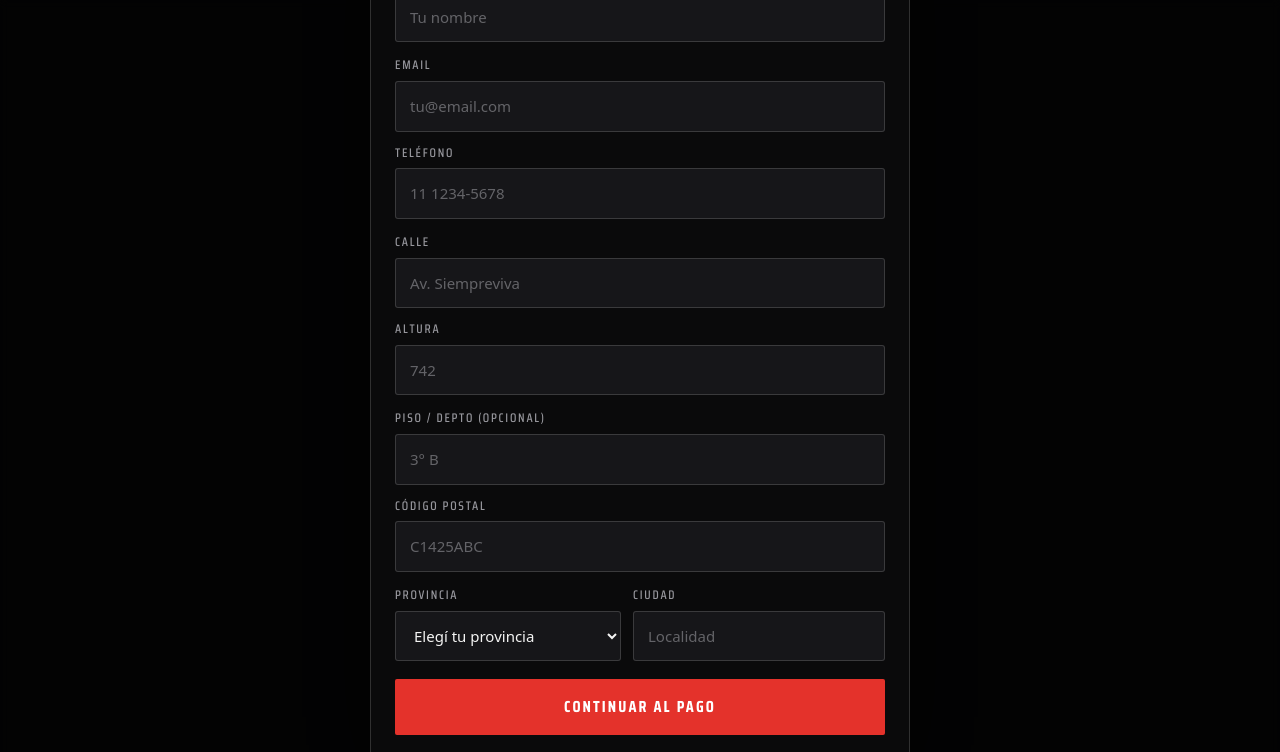
Test: announces validation errors via role=alert and names the field (H-04, H-06)
(page scrolled)
Click the button "Continuar al pago" at (640, 707), box [395, 679, 885, 735]
(page scrolled)
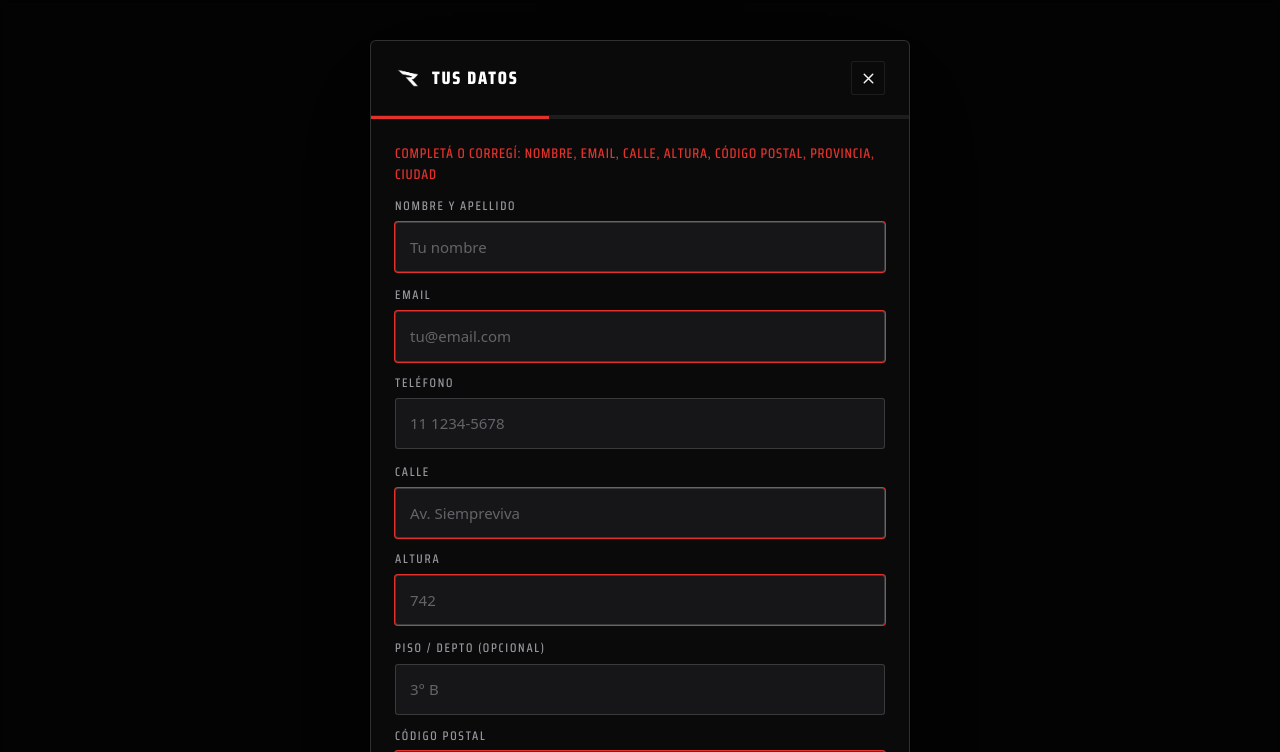
Expected: the message shows "nombre", [395, 142, 875, 185]
Expected: the message shows "calle", [395, 142, 875, 185]
Expected: the message shows "código postal", [395, 142, 875, 185]
